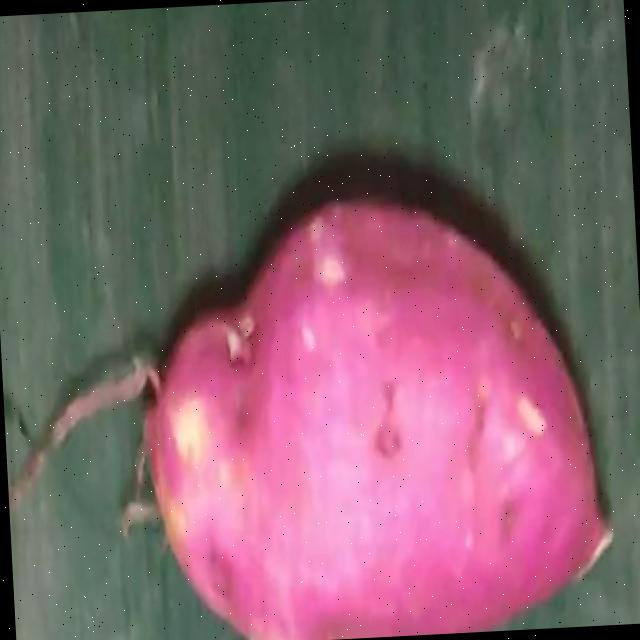Sweet Potato: (146, 207, 613, 640)
